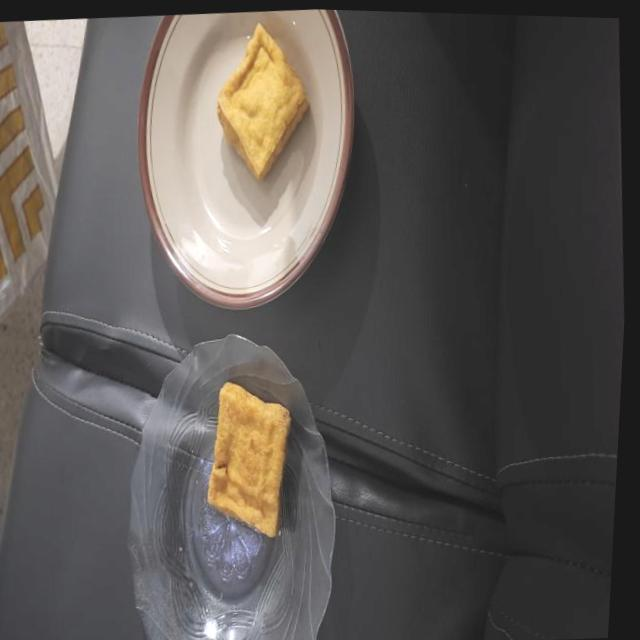tahu_goreng: (217, 23, 308, 179), (208, 382, 290, 536)
